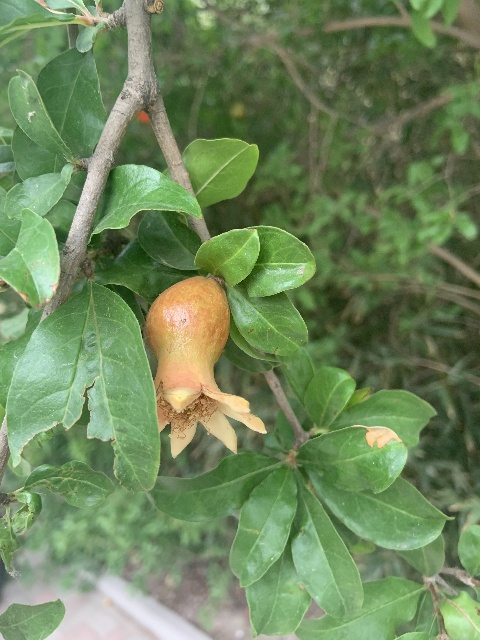early-fruit: (146, 277, 265, 459)
